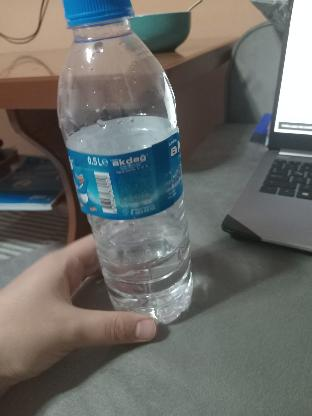Plastic Bottle: (55, 0, 192, 336)
